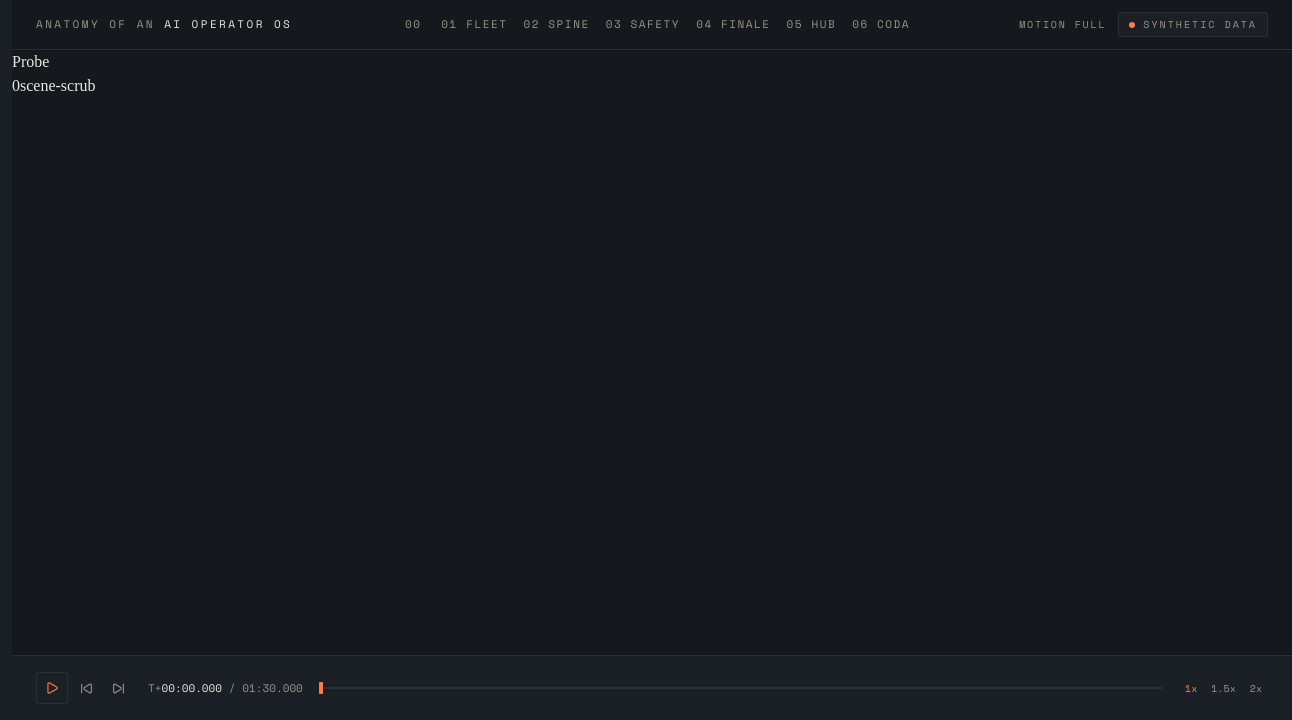
transport permalinks › writes the scrubbed position to the route's t parameter
The image size is (1292, 720).
Set the slider named "Session clock scrubber" to "5000" at [373, 688], box [319,676,1163,700]
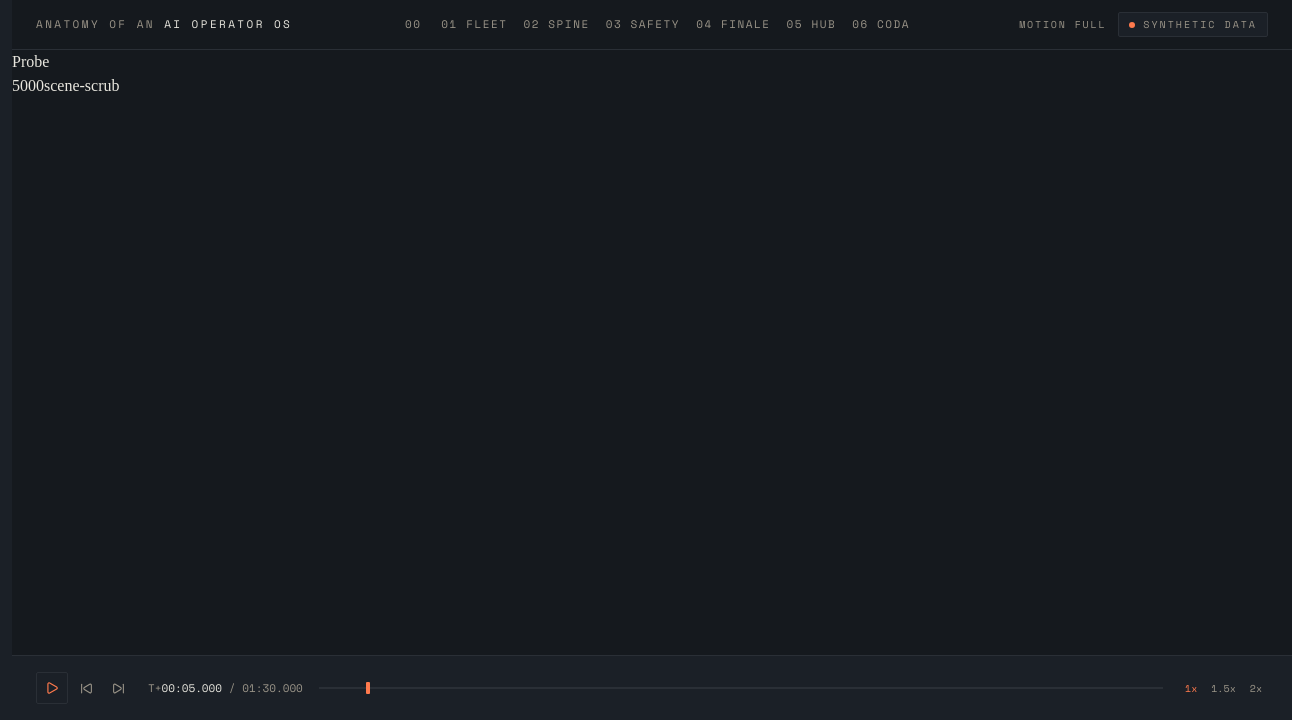
Expected: the text with test id "t" reads "5000", [12,77,44,94]
